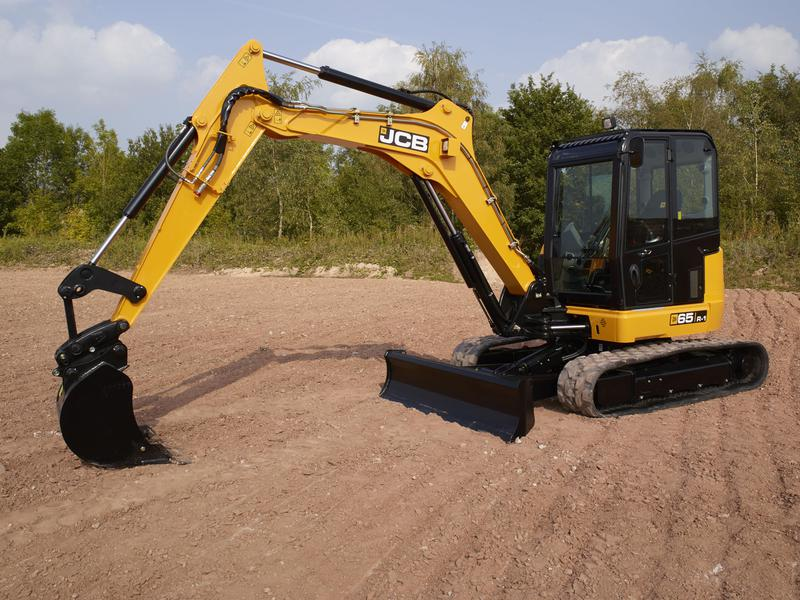shovel: (48, 35, 773, 477)
